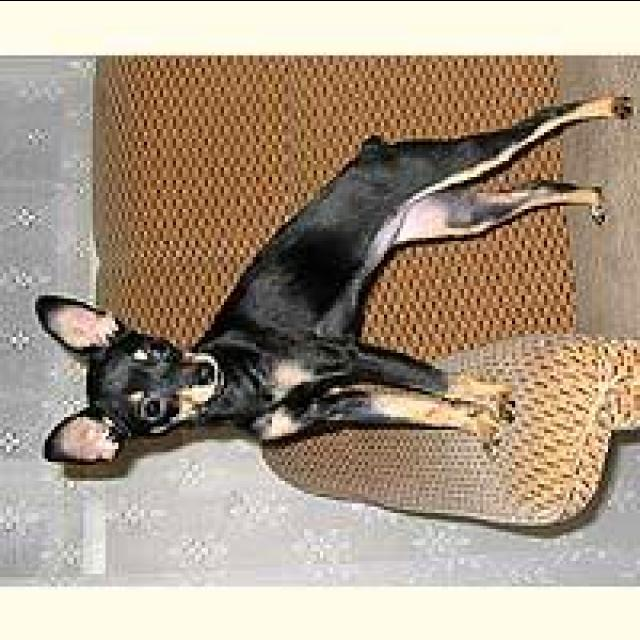toy_terrier: (29, 90, 634, 470)
